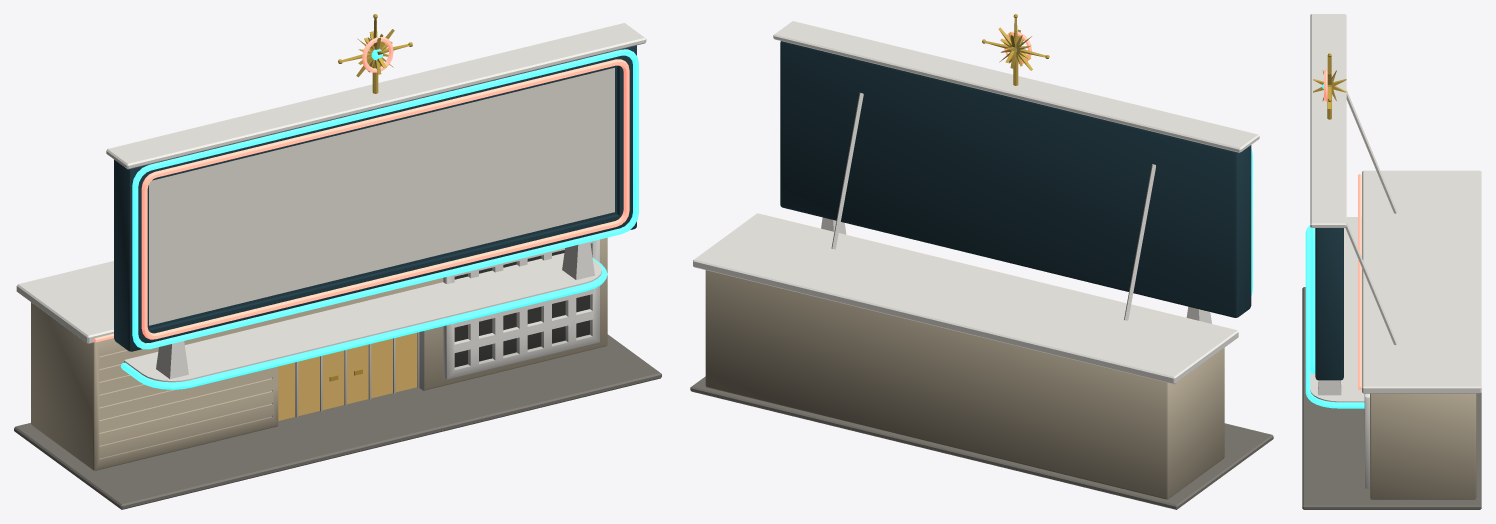
The model's file is vapors.glb.
3 renders of one model, left to right at view 1: azimuth 30°, elevation 25°; view 2: azimuth 150°, elevation 25°; view 3: azimuth 270°, elevation 25°, orthographic. The views are drawn at different scales.
Parts seen in each view (by area): view 1: vapors; view 2: vapors; view 3: vapors.
Part boxes in pixels (x1,y1,x2,y2): vapors: (14, 14, 661, 509); vapors: (690, 14, 1273, 509); vapors: (1302, 14, 1481, 509).
Size of the model in its own units: 0.04 by 0.0296 by 0.0138.
